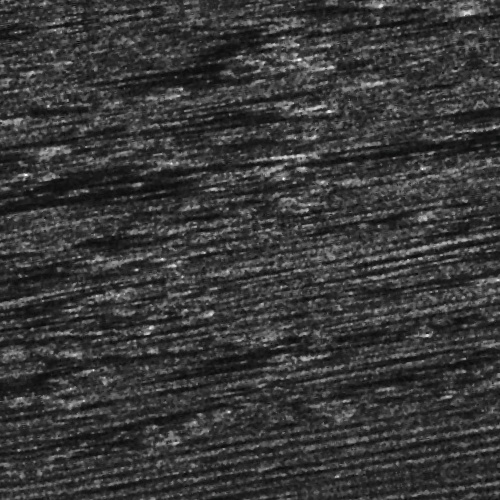object: (231, 152, 346, 167), (420, 38, 500, 47), (442, 300, 500, 309), (344, 98, 417, 105), (256, 359, 309, 366), (262, 57, 303, 60), (24, 120, 65, 123), (315, 111, 326, 120)
shadow: (0, 152, 288, 167), (113, 111, 320, 120), (306, 300, 500, 309), (322, 38, 473, 47), (321, 167, 500, 174), (115, 359, 283, 366), (228, 98, 380, 105), (0, 169, 244, 172), (123, 57, 283, 60), (430, 139, 500, 144), (0, 120, 45, 123)
